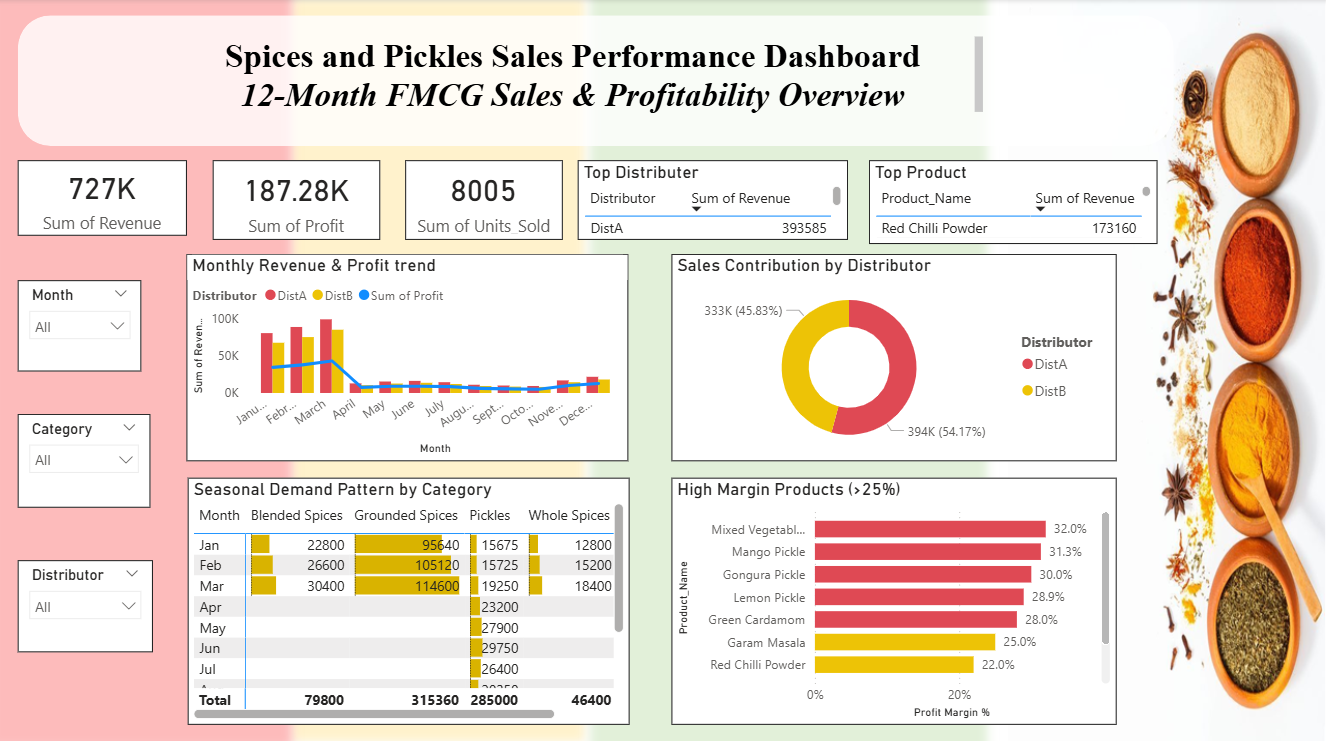

The dashboard page shown, as its layout file describes it:
{"tool":"powerbi","page":{"name":"Page 2","canvas":[1280,720],"ordinal":1},"visuals":[{"type":"shape","box":[17.8,15.1,1115.6,126.2],"z":0},{"type":"textbox","box":[161.9,31.6,793.1,91.9],"z":1},{"type":"card","fields":{"Values":["Sum(Sheet1.Revenue)"]},"box":[17.8,155.1,163.3,72.7],"z":2},{"type":"card","title":"Total Profit","fields":{"Values":["Sum(Sheet1.Profit)"]},"box":[205.8,155.1,161.9,76.8],"z":3},{"type":"card","fields":{"Values":["Sum(Sheet1.Units_Sold)"]},"box":[392.5,155.1,152.3,76.8],"z":4},{"type":"tableEx","title":"Top Distributer","fields":{"Values":["Sheet1.Distributor","Sum(Sheet1.Revenue)"]},"box":[558.5,155.1,260.7,76.8],"z":5},{"type":"tableEx","title":"Top Product","fields":{"Values":["Sheet1.Product_Name","Sum(Sheet1.Revenue)"]},"box":[839.8,155.1,278.6,81],"z":6},{"type":"lineClusteredColumnComboChart","title":"Monthly Revenue & Profit trend","fields":{"Category":["Sheet1.Date.Variation.Date Hierarchy.Month"],"Y":["Sum(Sheet1.Revenue)"],"Y2":["Sum(Sheet1.Profit)"],"Series":["Sheet1.Distributor"]},"box":[181.1,245.6,426.8,200.3],"z":7},{"type":"donutChart","title":"Sales Contribution by Distributor","fields":{"Category":["Sheet1.Distributor"],"Y":["Sum(Sheet1.Revenue)"]},"box":[649.1,245.6,429.5,200.3],"z":8},{"type":"pivotTable","title":"Seasonal Demand Pattern by Category","fields":{"Columns":["Sheet1.Category"],"Values":["Sum(Sheet1.Revenue)"],"Rows":["Sheet1.Month"]},"box":[182.5,462.4,426.8,238.8],"z":9},{"type":"clusteredBarChart","title":"High Margin Products (>25%)","fields":{"Category":["Sheet1.Product_Name"],"Y":["Sheet1.Profit Margin %"]},"box":[649.1,462.4,429.5,238.8],"z":10},{"type":"slicer","title":"Month","fields":{"Values":["Sheet1.Month"]},"box":[17.8,271.7,119.4,87.8],"z":11},{"type":"slicer","fields":{"Values":["Sheet1.Category"]},"box":[17.8,400.7,127.6,90.6],"z":12},{"type":"slicer","fields":{"Values":["Sheet1.Distributor"]},"box":[17.8,542,130.4,89.2],"z":13}]}

Visuals, with their boxes in screenshot pixels (x1, y1, x2, y2), scaled from the page's 1280x720 canvas onto the 1326x741 screenshot:
shape: (18,16,1174,145)
textbox: (168,33,989,127)
card - Sum(Sheet1.Revenue): (18,160,188,234)
"Total Profit" card: (213,160,381,239)
card - Sum(Sheet1.Units_Sold): (407,160,564,239)
"Top Distributer" tableEx: (579,160,849,239)
"Top Product" tableEx: (870,160,1159,243)
"Monthly Revenue & Profit trend" lineClusteredColumnComboChart: (188,253,630,459)
"Sales Contribution by Distributor" donutChart: (672,253,1117,459)
"Seasonal Demand Pattern by Category" pivotTable: (189,476,631,722)
"High Margin Products (>25%)" clusteredBarChart: (672,476,1117,722)
"Month" slicer: (18,280,142,370)
slicer - Sheet1.Category: (18,412,151,506)
slicer - Sheet1.Distributor: (18,558,154,650)
